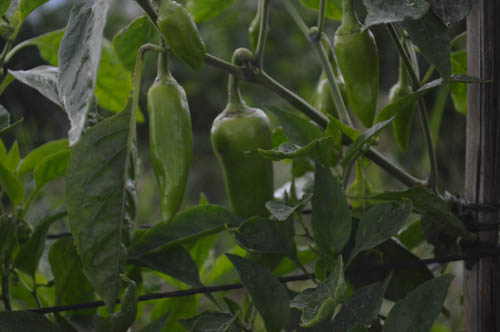ChiliPepper: (208, 104, 283, 226), (147, 79, 196, 222), (332, 26, 384, 131), (384, 82, 416, 156), (317, 73, 348, 148)
